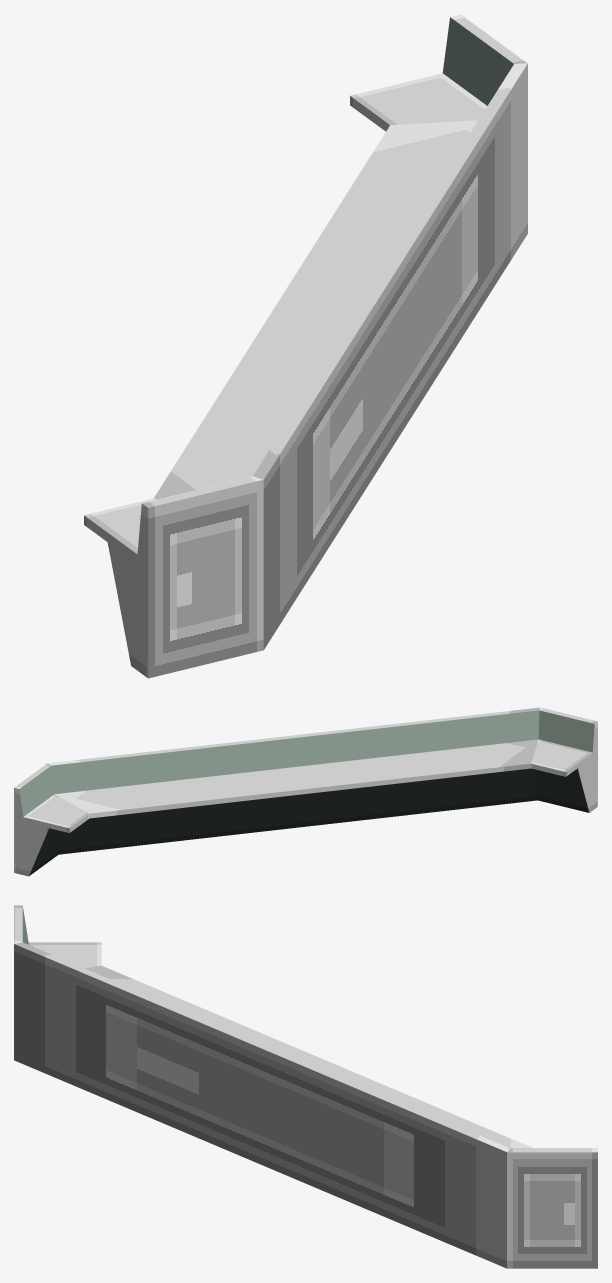
Rendered from desk_corner_inside_4_item.obj.
3 renders of one model, top to bottom at view 1: azimuth 30°, elevation 25°; view 2: azimuth 150°, elevation 25°; view 3: azimuth 270°, elevation 25°, orthographic. The views are drawn at different scales.
Size of the model in its own units: 5 by 1.1 by 5.
